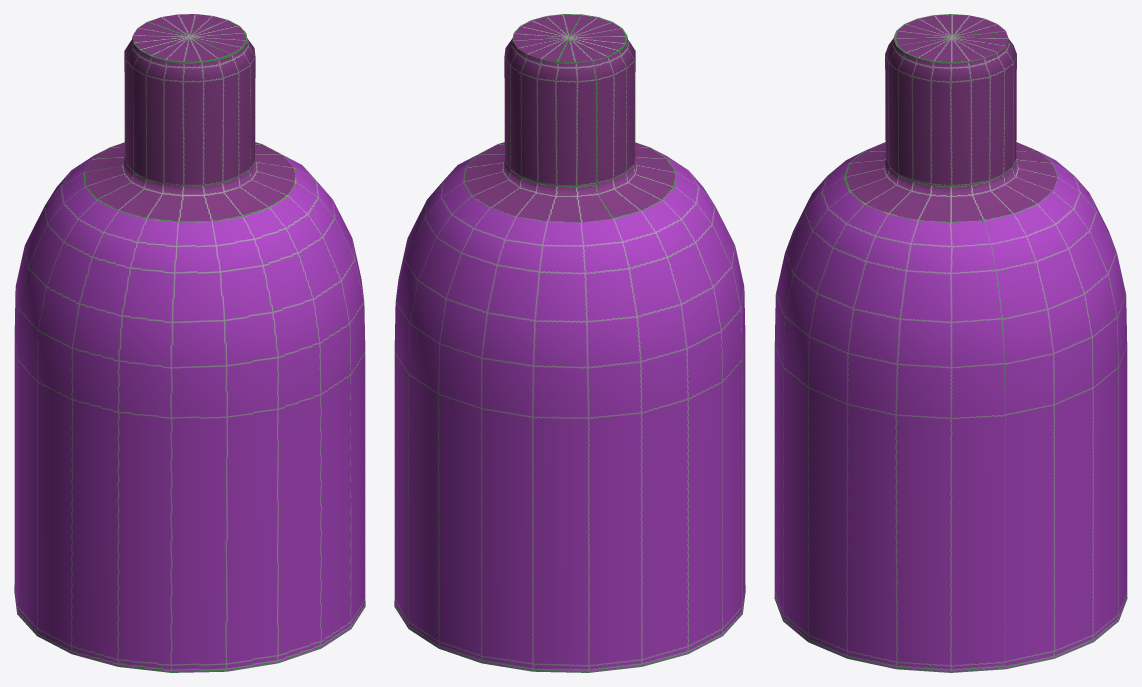
The model's file is lavande.glb.
3 views of the same model, side by side, from view 1: azimuth 30°, elevation 25°; view 2: azimuth 150°, elevation 25°; view 3: azimuth 270°, elevation 25° (orthographic).
Visible parts, largest first — view 1: pCylinder1; view 2: pCylinder1; view 3: pCylinder1.
Boxes of the visible parts, left/top/right/bottom form: pCylinder1: left=14, top=14, right=365, bottom=672; pCylinder1: left=394, top=14, right=745, bottom=672; pCylinder1: left=774, top=14, right=1127, bottom=672.
Size of the model in its own units: 0.0115 by 0.0201 by 0.0115.
Materials: 1 (1 with a texture image).
